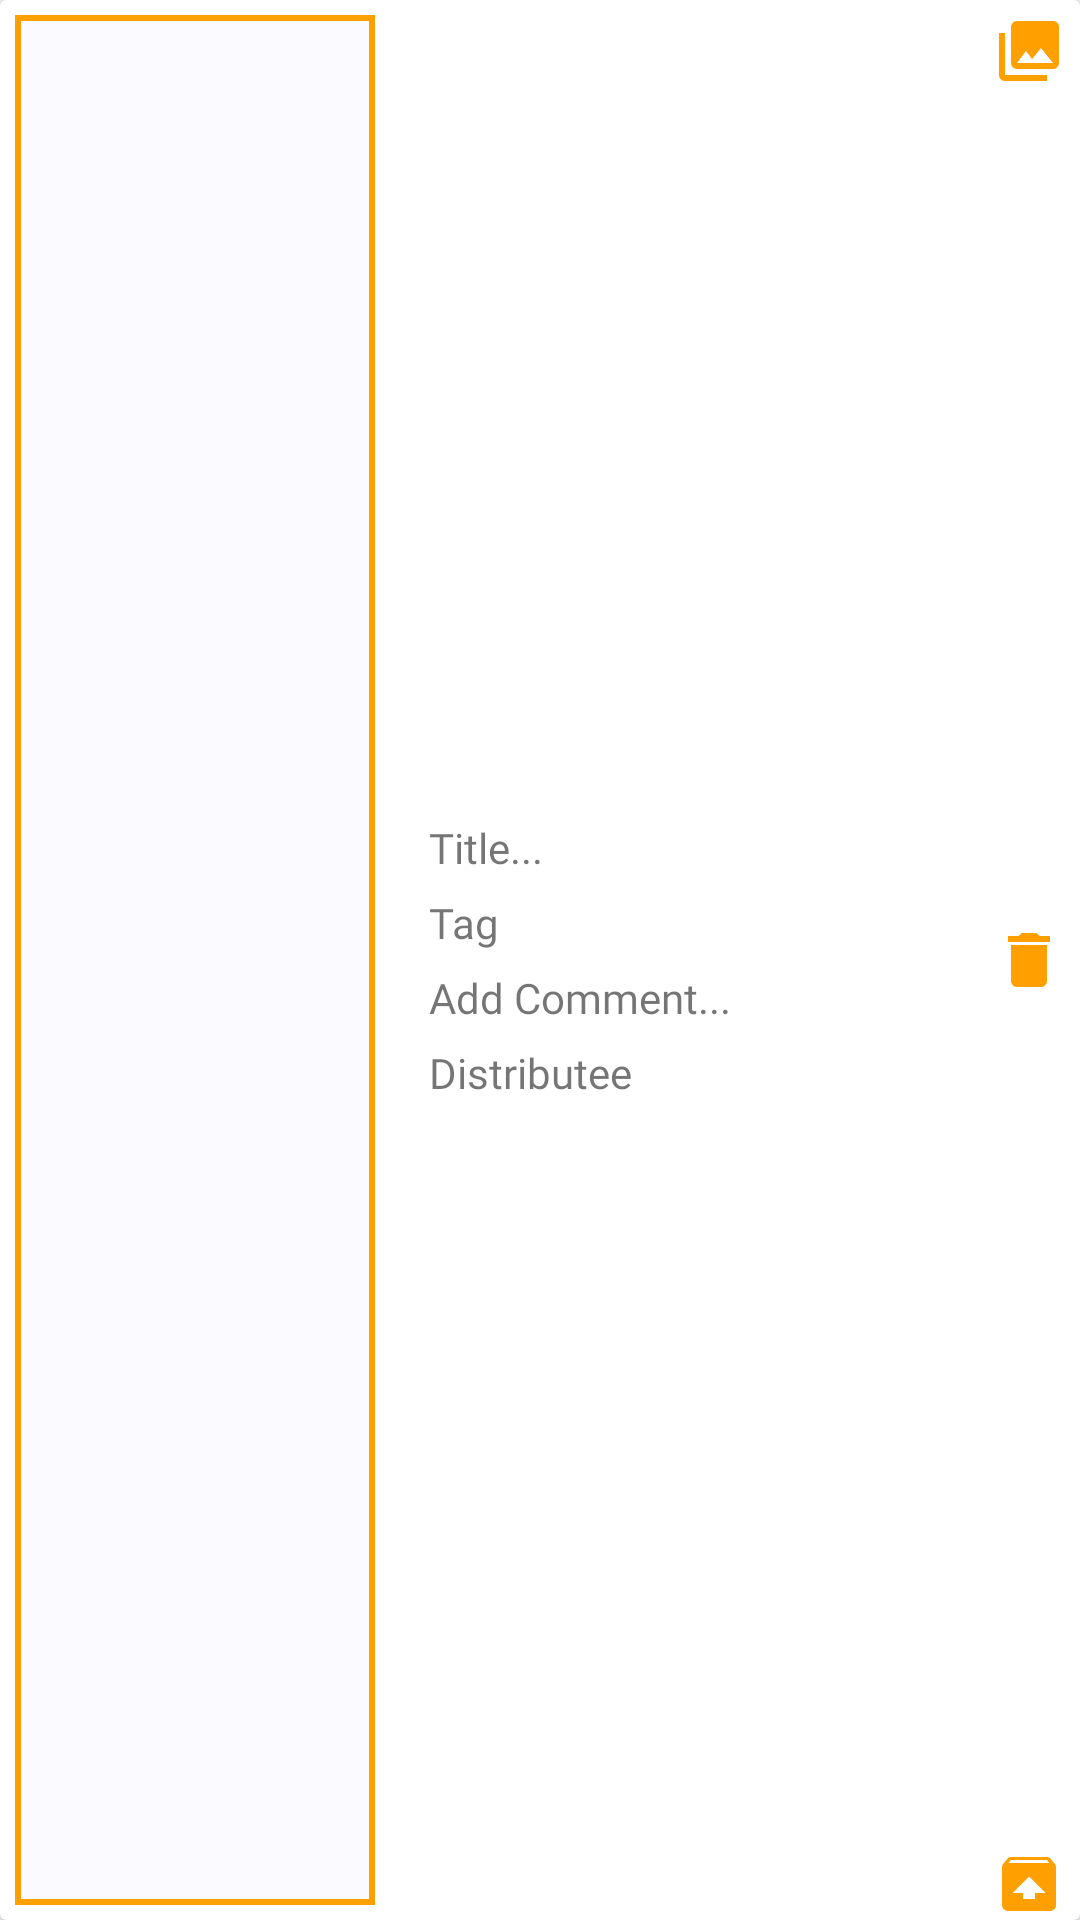

Icon click points for this 1080px x 1920px phone screenshot, format point (x, y):
delete: point (1029, 960)
unarchive document: point (1029, 1884)
